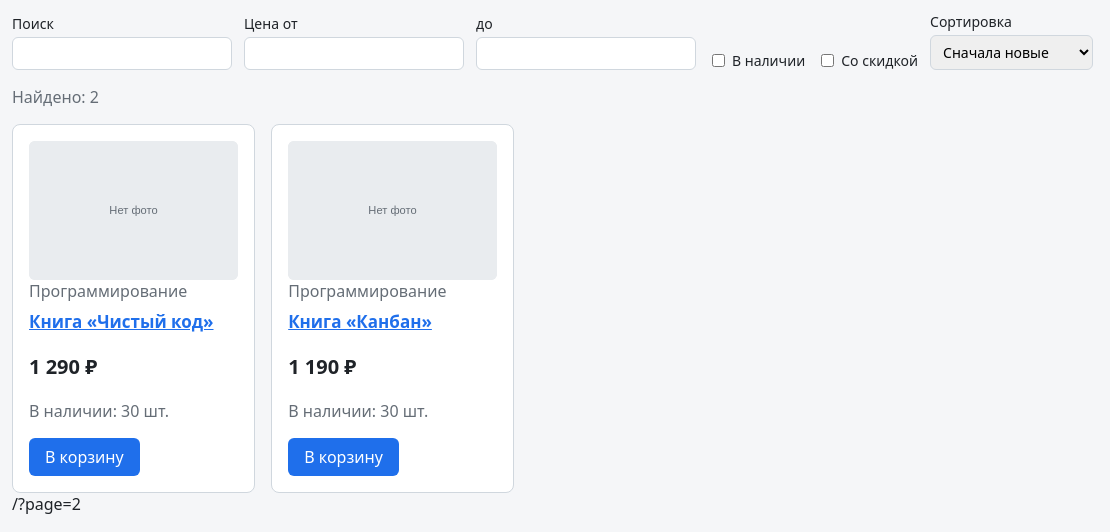
сортировка меняет адрес и сбрасывает страницу
expect the link "Книга «Канбан»" is shown: met, box 288,310 -> 432,334
Step 1. Select "Сначала дорогие" in the dropdown labelled "Сортировка" → (1012, 52), box 930,35 -> 1093,70
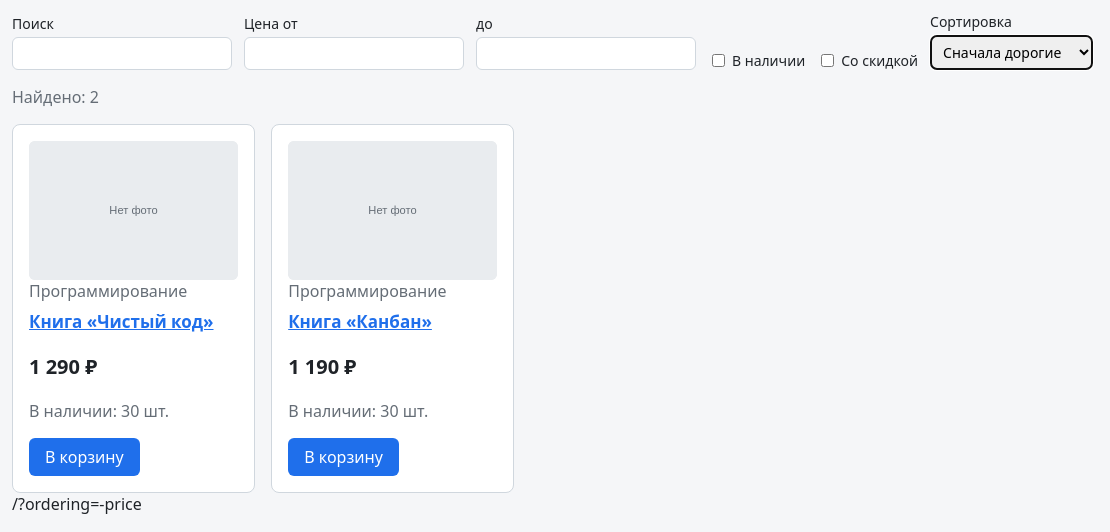
expect the text with test id "location" reads "/?ordering=-price": met, box 12,494 -> 142,516
